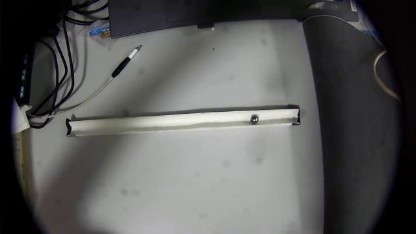gangzhu: (248, 113, 260, 124)
